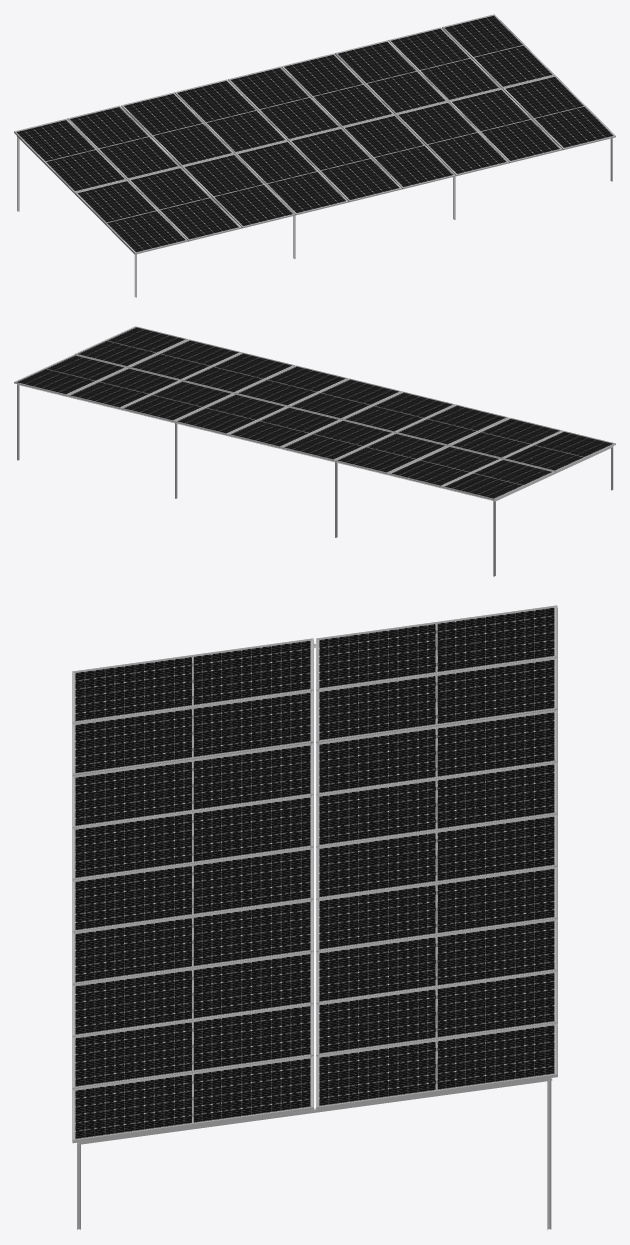
3 views of the same model, one above another, from view 1: azimuth 30°, elevation 25°; view 2: azimuth 150°, elevation 25°; view 3: azimuth 270°, elevation 25° (orthographic). The views are drawn at different scales.
Parts seen in each view (by area): view 1: 9KW SOLARPANEL; view 2: 9KW SOLARPANEL; view 3: 9KW SOLARPANEL.
Boxes of the visible parts, x1,y1,x2,y2 form: 9KW SOLARPANEL: [14, 14, 615, 297]; 9KW SOLARPANEL: [14, 326, 615, 576]; 9KW SOLARPANEL: [72, 605, 557, 1230].
Size of the model in its own units: 10.36 by 1.63 by 4.53.
Materials: 1 (1 with a texture image).
